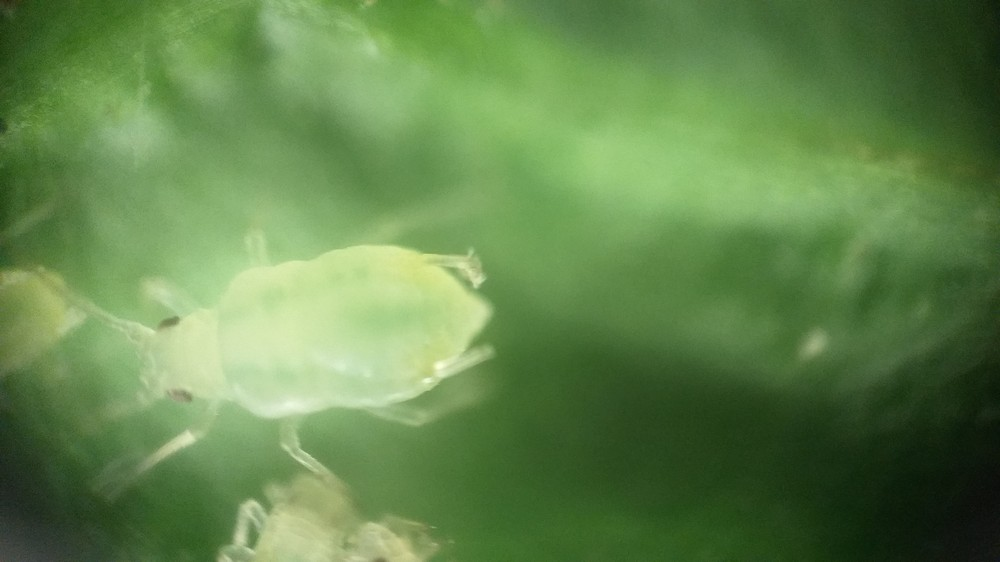Pulgon: (55, 217, 536, 492)
